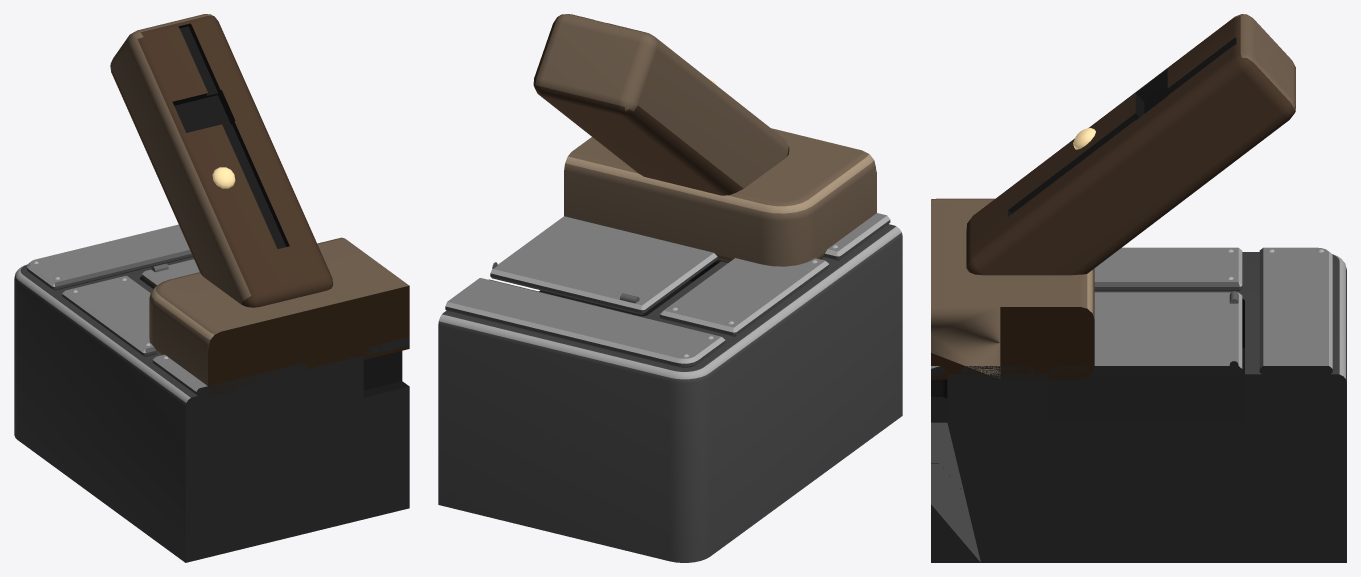
The model's file is bronze_pump_tl.glb.
3 views of the same model, side by side, from view 1: azimuth 30°, elevation 25°; view 2: azimuth 150°, elevation 25°; view 3: azimuth 270°, elevation 25° (orthographic). The views are drawn at different scales.
Parts seen in each view (by area): view 1: bronze_pump_tl; view 2: bronze_pump_tl; view 3: bronze_pump_tl.
Boxes of the visible parts, x1,y1,x2,y2 form: bronze_pump_tl: (14,14,409,562); bronze_pump_tl: (438,14,902,562); bronze_pump_tl: (931,14,1346,562).
Size of the model in its own units: 20 by 35.02 by 27.95.
